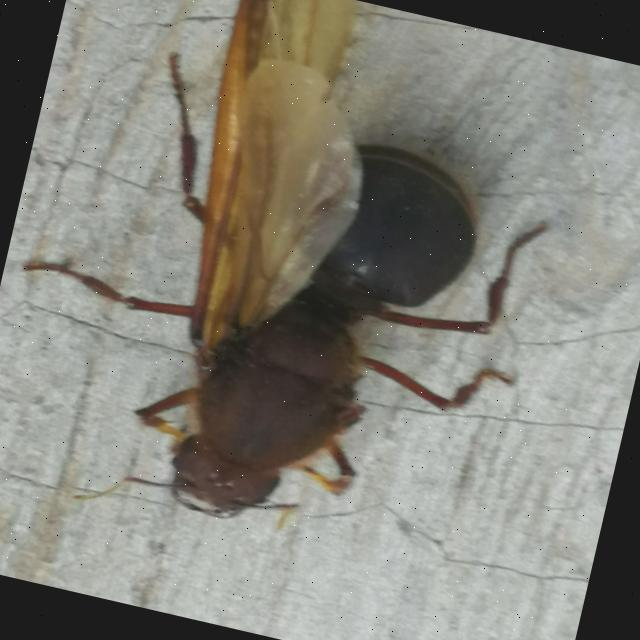Alive-Female-Alate: (0, 0, 591, 593)
